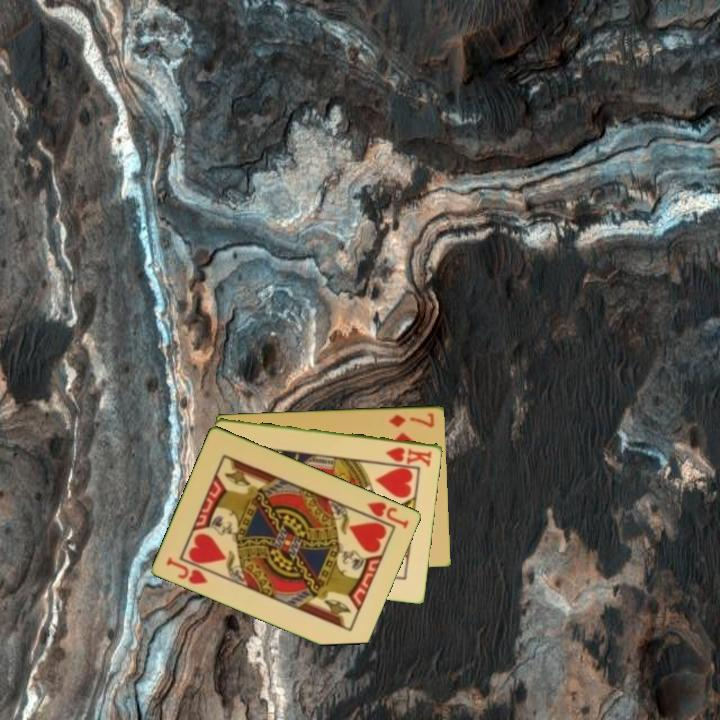7d: (386, 409, 438, 430)
Jh: (163, 553, 211, 587), (364, 498, 412, 531)
Kh: (383, 443, 435, 469)
